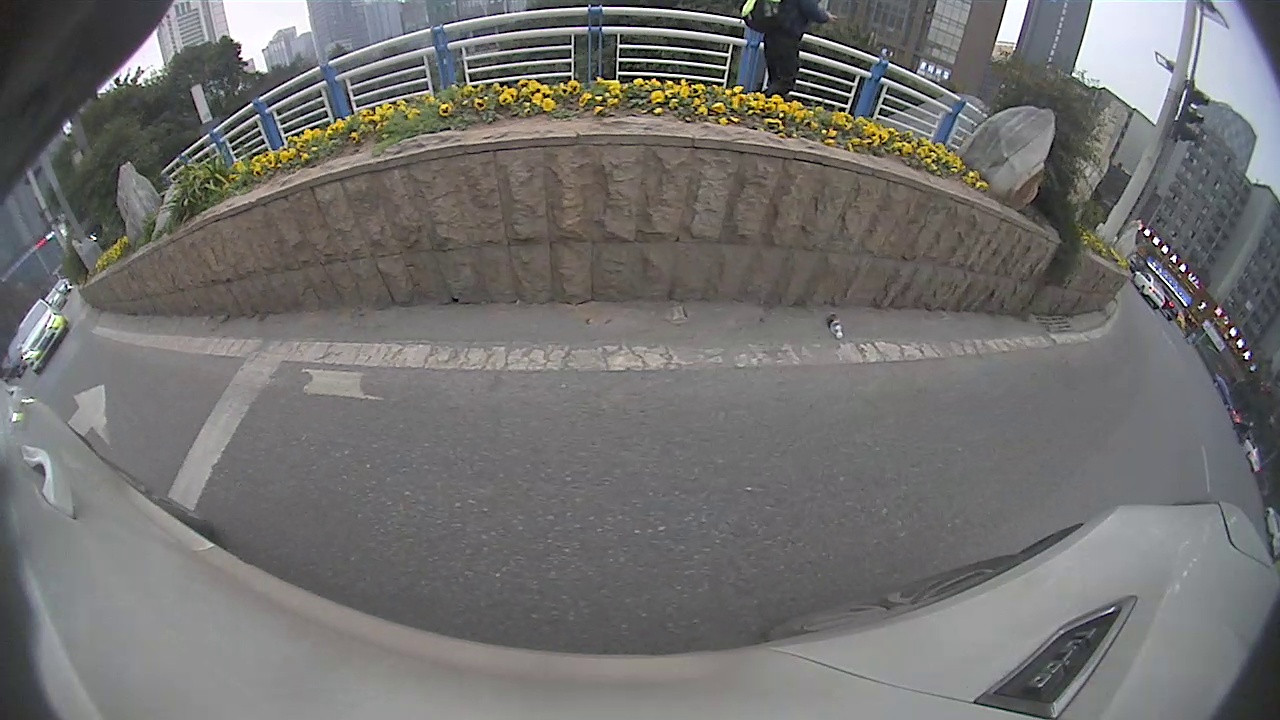car: (11, 298, 69, 375)
person: (764, 0, 822, 93)
